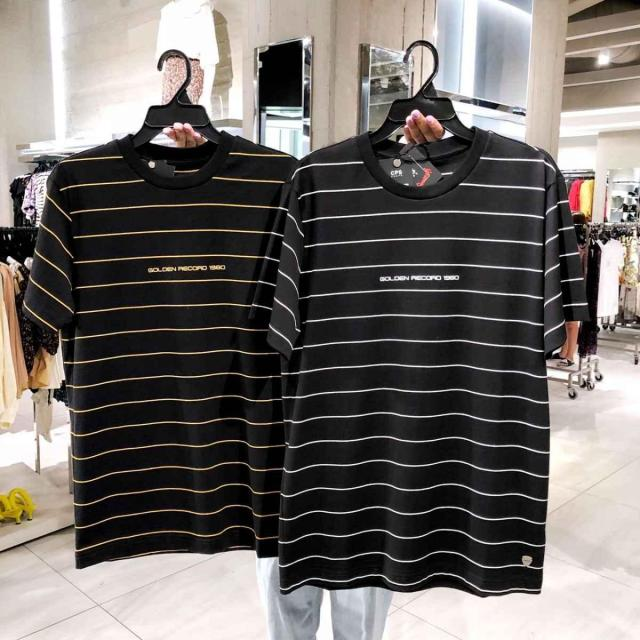Tshirt: (286, 128, 583, 592), (24, 132, 287, 562)
